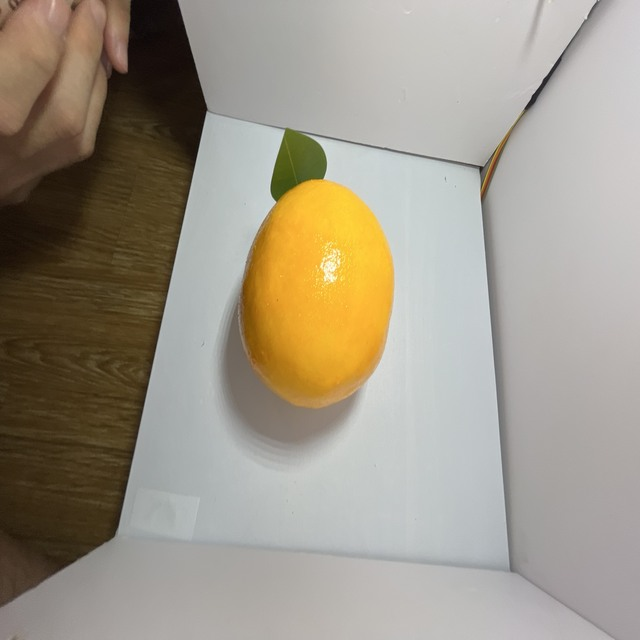Cam vang: (236, 174, 398, 414)
